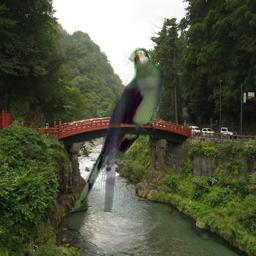Cuckoo: (68, 48, 165, 213)
